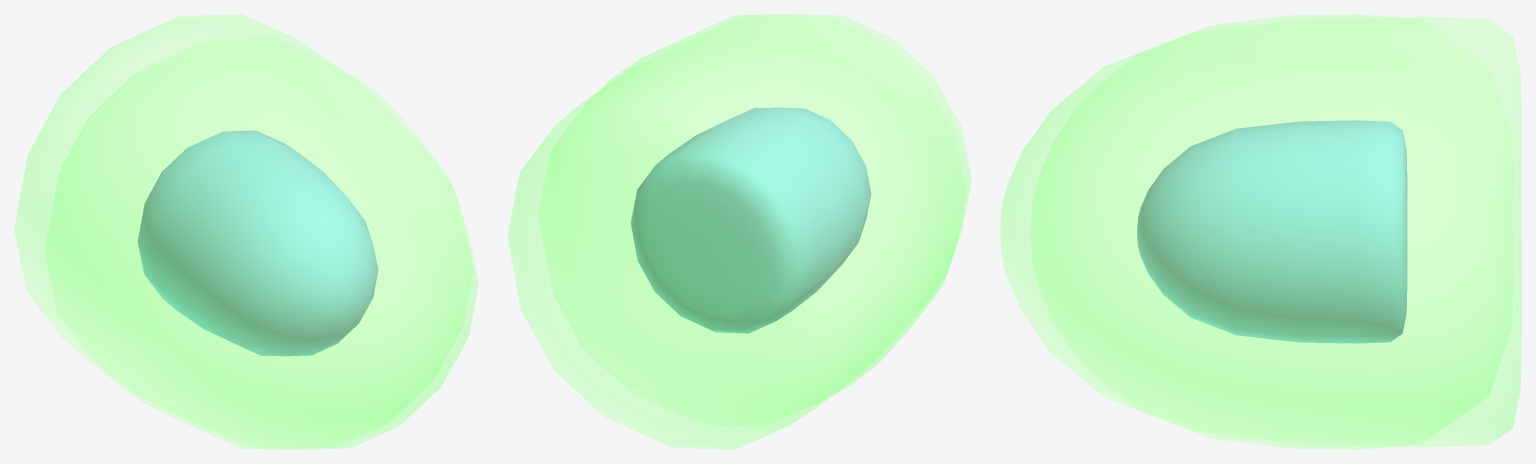
File: PlayerBullet_1.fbx
3 views of the same model, side by side, from view 1: azimuth 30°, elevation 25°; view 2: azimuth 150°, elevation 25°; view 3: azimuth 270°, elevation 25° (orthographic). The views are drawn at different scales.
Parts seen in each view (by area): view 1: PlayerBullet.001, PlayerBullet; view 2: PlayerBullet.001, PlayerBullet; view 3: PlayerBullet.001, PlayerBullet.
Boxes of the visible parts, x1,y1,x2,y2 form: PlayerBullet.001: (14, 14, 478, 449); PlayerBullet: (45, 37, 472, 448); PlayerBullet.001: (507, 14, 971, 449); PlayerBullet: (538, 15, 965, 426); PlayerBullet.001: (1000, 16, 1521, 447); PlayerBullet: (1030, 14, 1513, 449).
Size of the model in its own units: 123 by 123 by 147.
